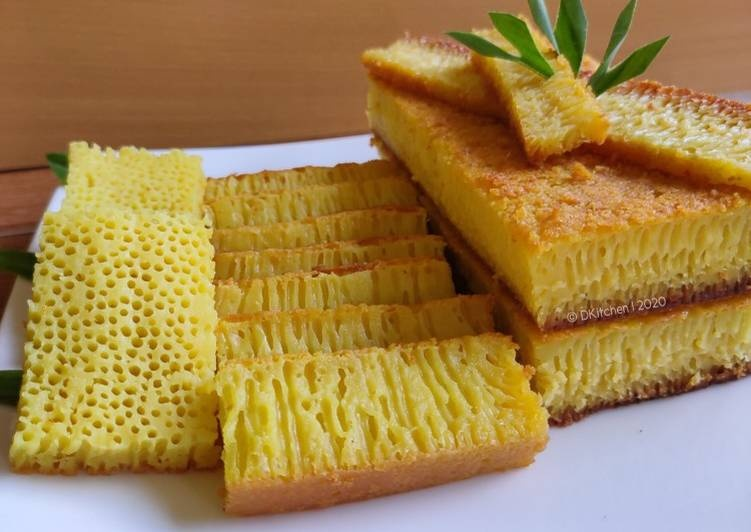bika_ambon: (47, 137, 552, 495), (189, 170, 550, 487), (62, 142, 221, 449)
